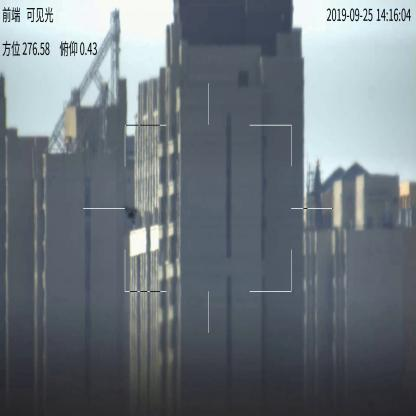uav: (124, 204, 139, 224)
